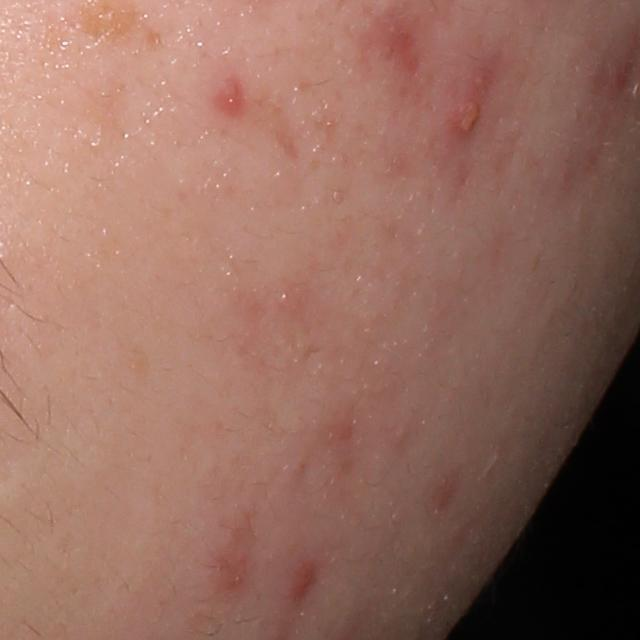papule: (216, 81, 253, 118), (290, 559, 315, 605)
pustule: (449, 87, 489, 140)
